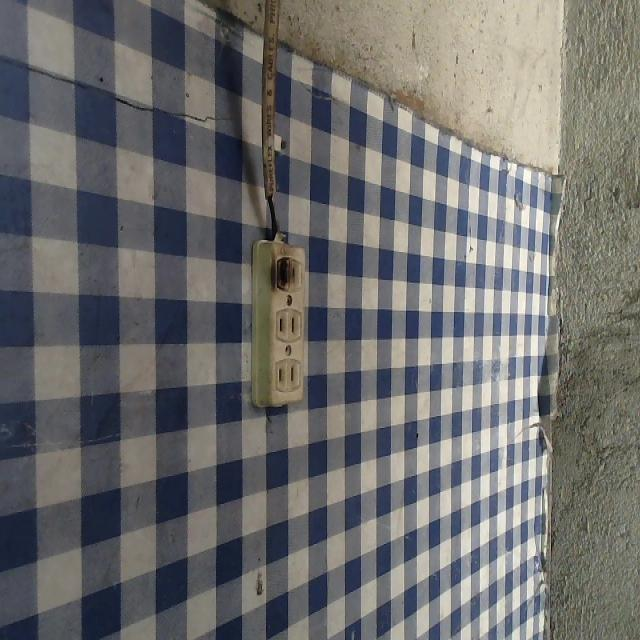-: (270, 258, 294, 302)
